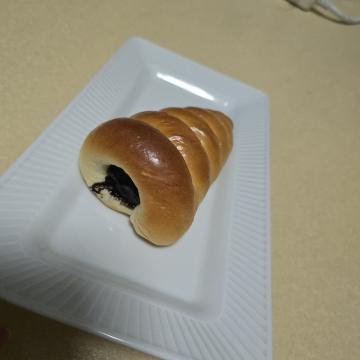cream horn: (97, 117, 262, 290)
